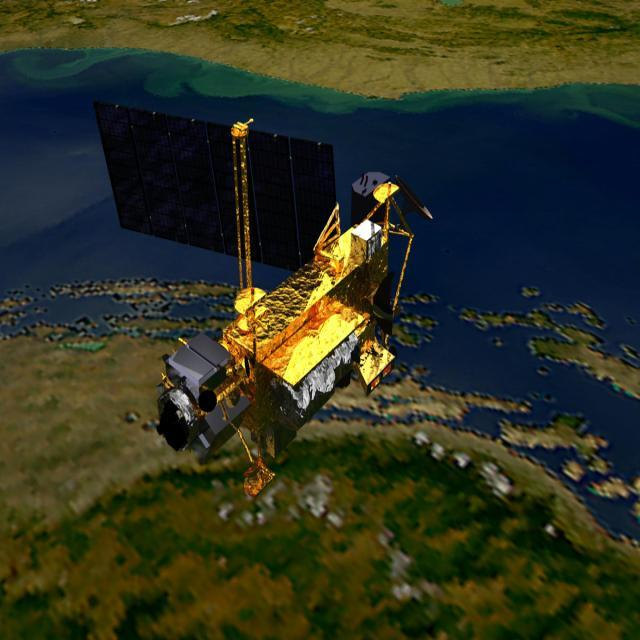sat: (86, 81, 440, 513)
